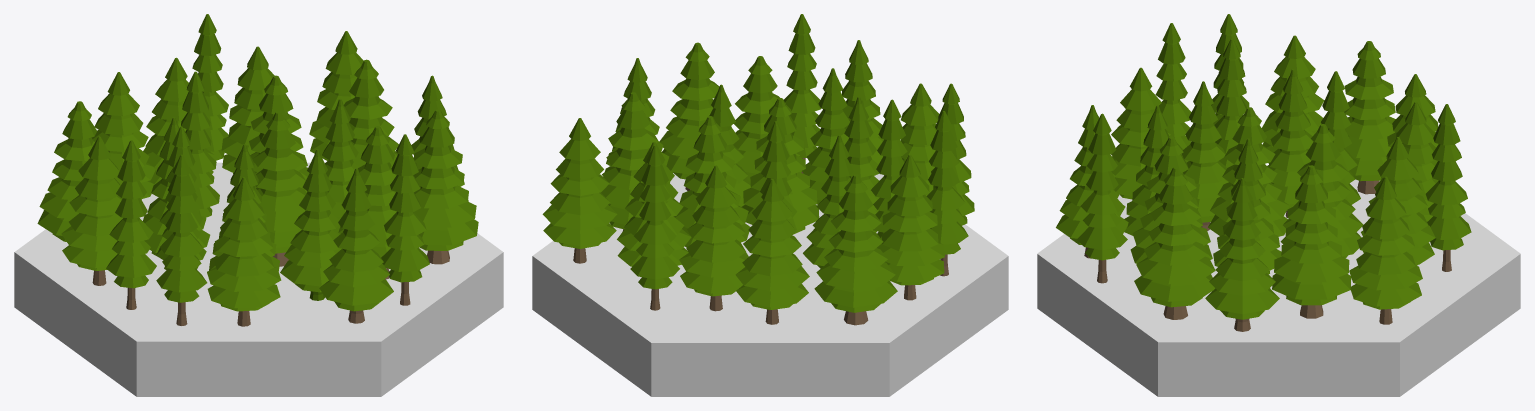
Rendered from Forest_Hex.fbx.
The picture shows the model from 3 angles, left to right: view 1: azimuth 30°, elevation 25°; view 2: azimuth 150°, elevation 25°; view 3: azimuth 270°, elevation 25°; orthographic projection. The views are drawn at different scales.
Parts seen in each view (by area): view 1: Hex; view 2: Hex; view 3: Hex.
Boxes of the visible parts, x1,y1,x2,y2 form: Hex: [14, 14, 503, 396]; Hex: [532, 14, 1008, 396]; Hex: [1037, 14, 1520, 396].
Size of the model in its own units: 351 by 202 by 400.
